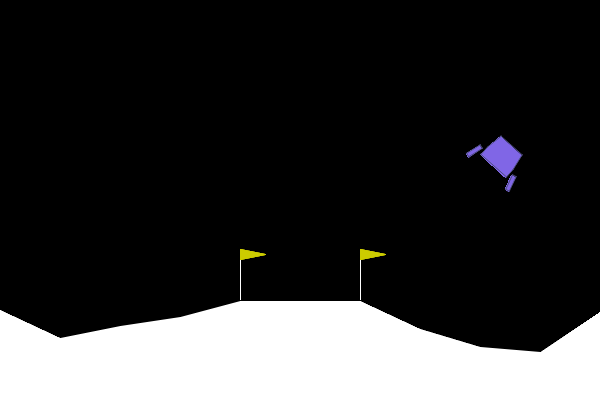lander: (464, 124, 535, 194)
